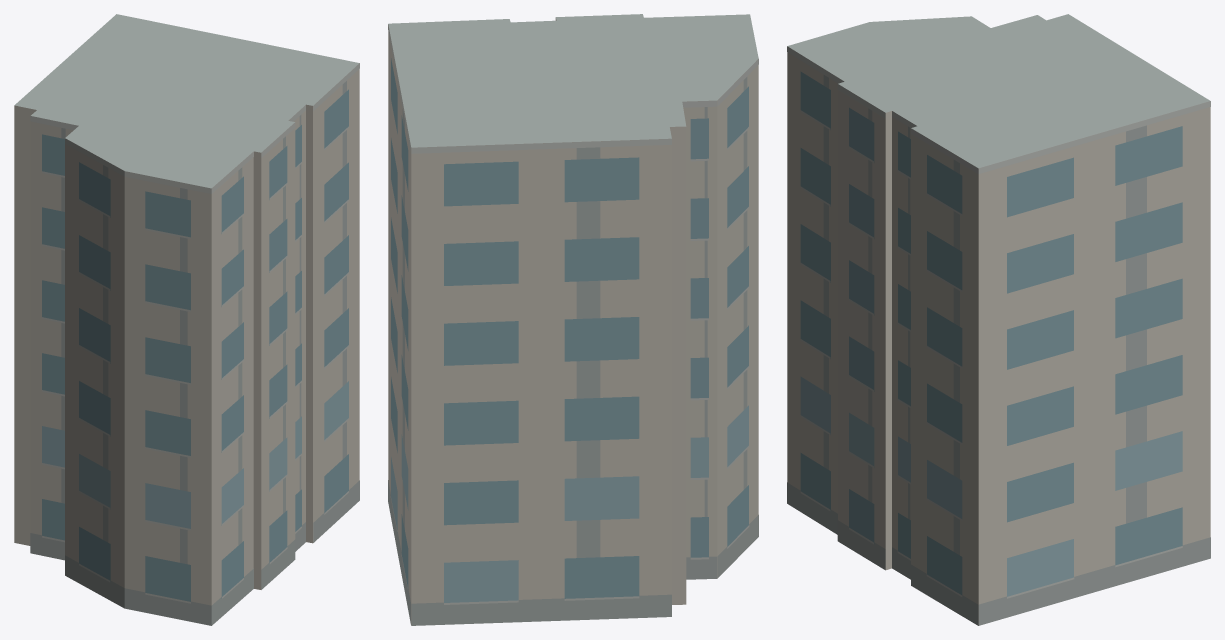
File: survey-upis-32941076.glb
The picture shows the model from 3 angles, left to right: view 1: azimuth 30°, elevation 25°; view 2: azimuth 150°, elevation 25°; view 3: azimuth 270°, elevation 25°; orthographic projection. The views are drawn at different scales.
Visible parts, largest first — view 1: survey-upis-32941076.tmp; view 2: survey-upis-32941076.tmp; view 3: survey-upis-32941076.tmp.
Boxes of the visible parts, x1,y1,x2,y2 form: survey-upis-32941076.tmp: (14, 14, 359, 625); survey-upis-32941076.tmp: (388, 14, 758, 625); survey-upis-32941076.tmp: (787, 14, 1210, 625).
Size of the model in its own units: 13.68 by 18.9 by 15.87.
